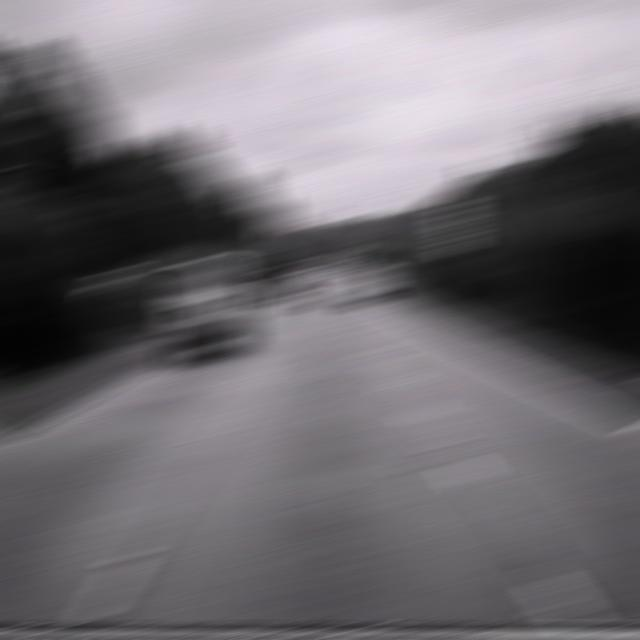speedLimit65: (436, 202, 474, 241)
